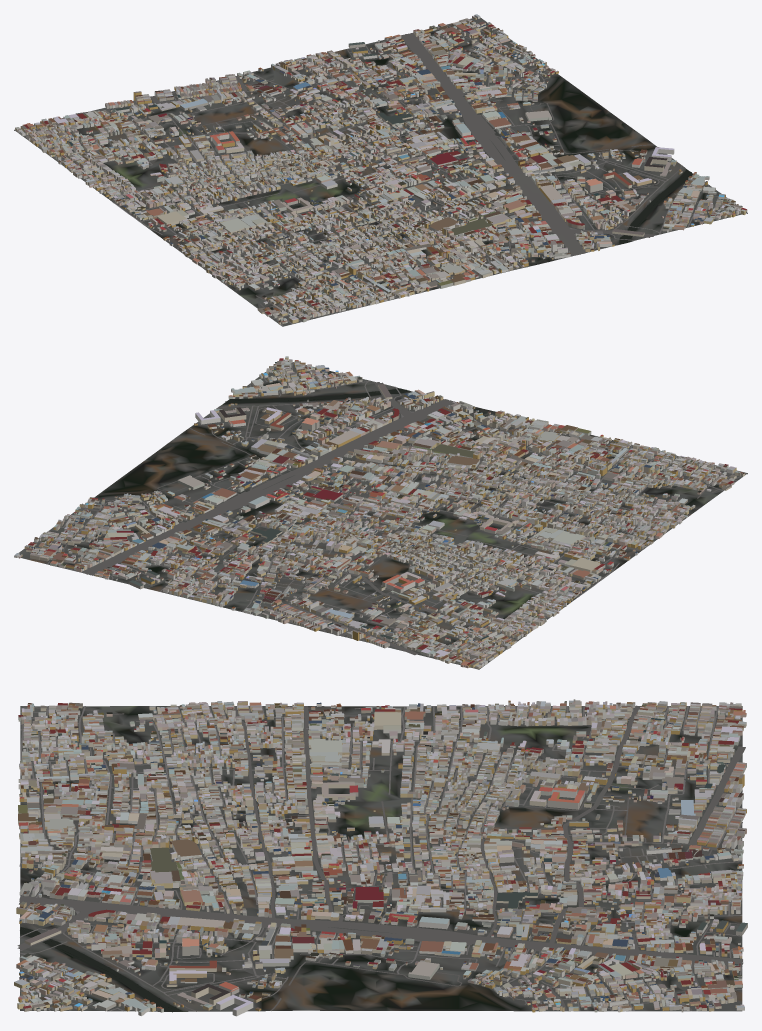
3 renders of one model, top to bottom at view 1: azimuth 30°, elevation 25°; view 2: azimuth 150°, elevation 25°; view 3: azimuth 270°, elevation 25°, orthographic. The views are drawn at different scales.
Parts seen in each view (by area): view 1: buildings, ground, roads, water; view 2: buildings, ground, roads, water; view 3: buildings, ground, roads, water.
Boxes of the visible parts, box(x1,y1,x2,y2) form: buildings: box(15, 14, 747, 324); ground: box(14, 17, 747, 326); roads: box(23, 24, 737, 325); water: box(619, 169, 692, 244); buildings: box(14, 356, 745, 669); ground: box(14, 359, 747, 669); roads: box(33, 362, 746, 668); water: box(223, 388, 410, 404); buildings: box(14, 699, 747, 1016); ground: box(20, 706, 742, 1011); roads: box(17, 705, 745, 1011); water: box(20, 927, 182, 1012).
Size of the model in its own units: 1428 by 27.99 by 1423.
